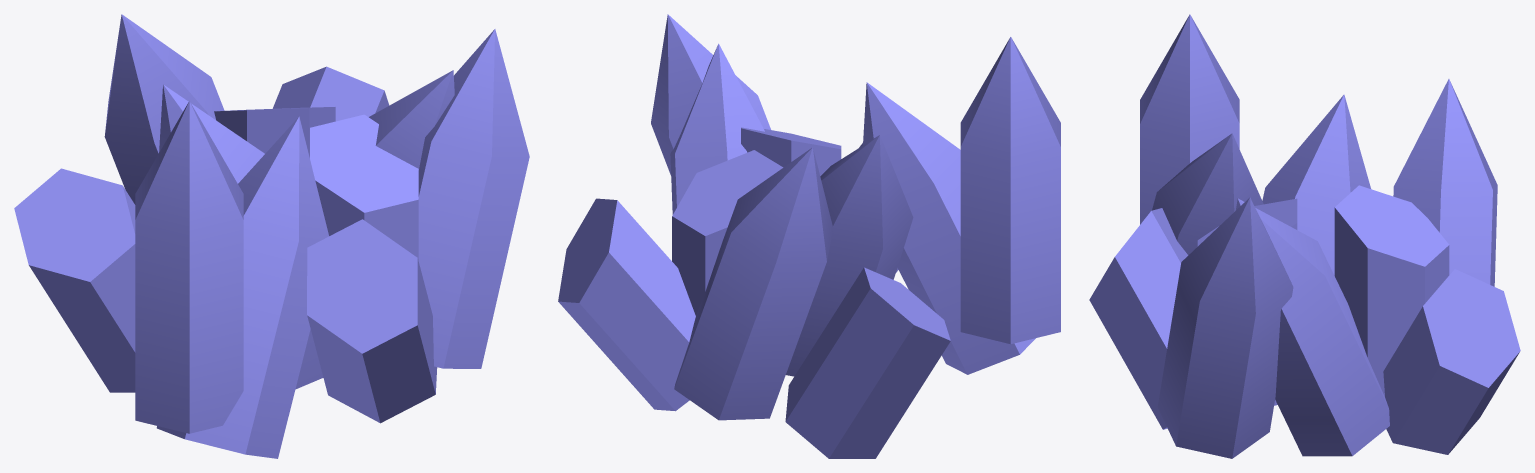
The model's file is watercrystalgrowth.obj.
The picture shows the model from 3 angles, left to right: view 1: azimuth 30°, elevation 25°; view 2: azimuth 150°, elevation 25°; view 3: azimuth 270°, elevation 25°; orthographic projection. The views are drawn at different scales.
Visible parts, largest first — view 1: g0; view 2: g0; view 3: g0.
Boxes of the visible parts, x1,y1,x2,y2 form: g0: (14, 14, 529, 458); g0: (558, 14, 1060, 458); g0: (1089, 14, 1520, 458).
Size of the model in its own units: 0.9786 by 0.8778 by 0.9762.
